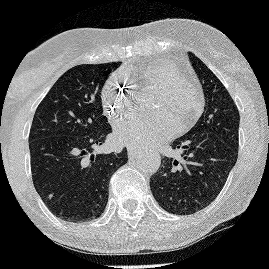nodule: (48, 194, 52, 198)
